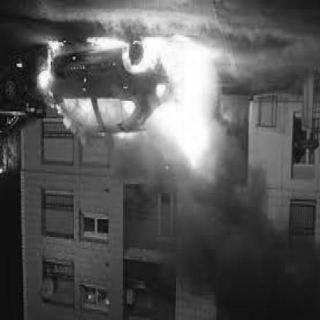Fire: (35, 32, 223, 176)
Smoke: (175, 177, 318, 320)
